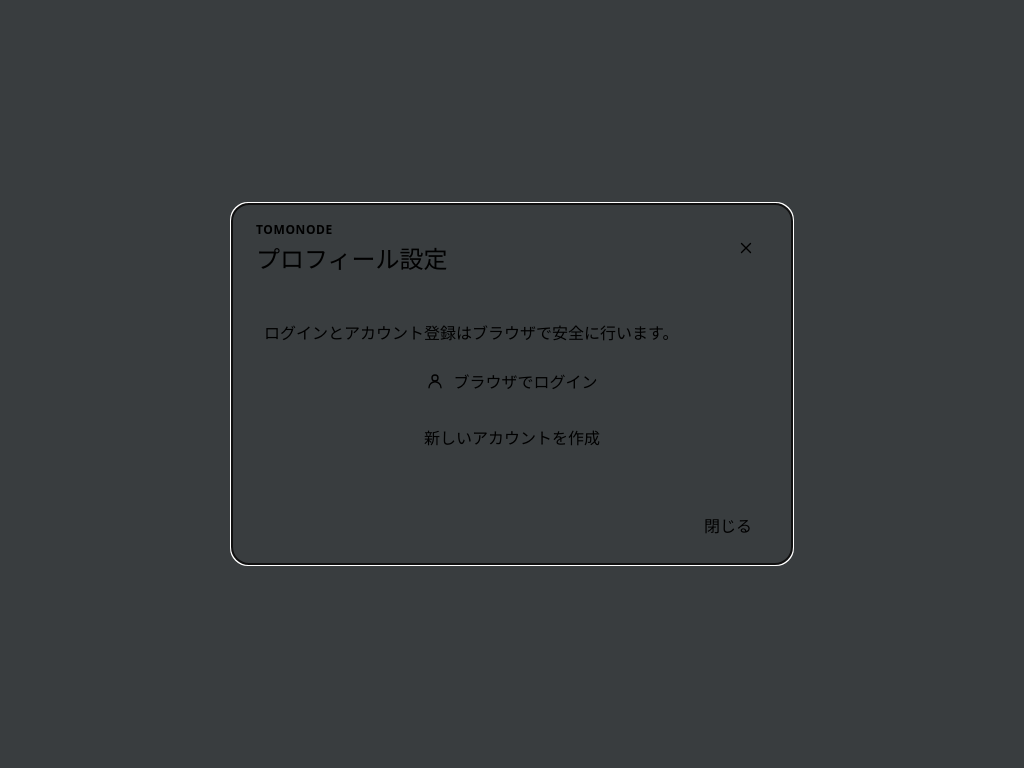
AccountDialog › starts browser login from the signed-out dialog without native credential fields
The width and height of the screenshot is (1024, 768).
Click the button "ブラウザでログイン" at (512,381), box x1=264 y1=360 x2=760 y2=402
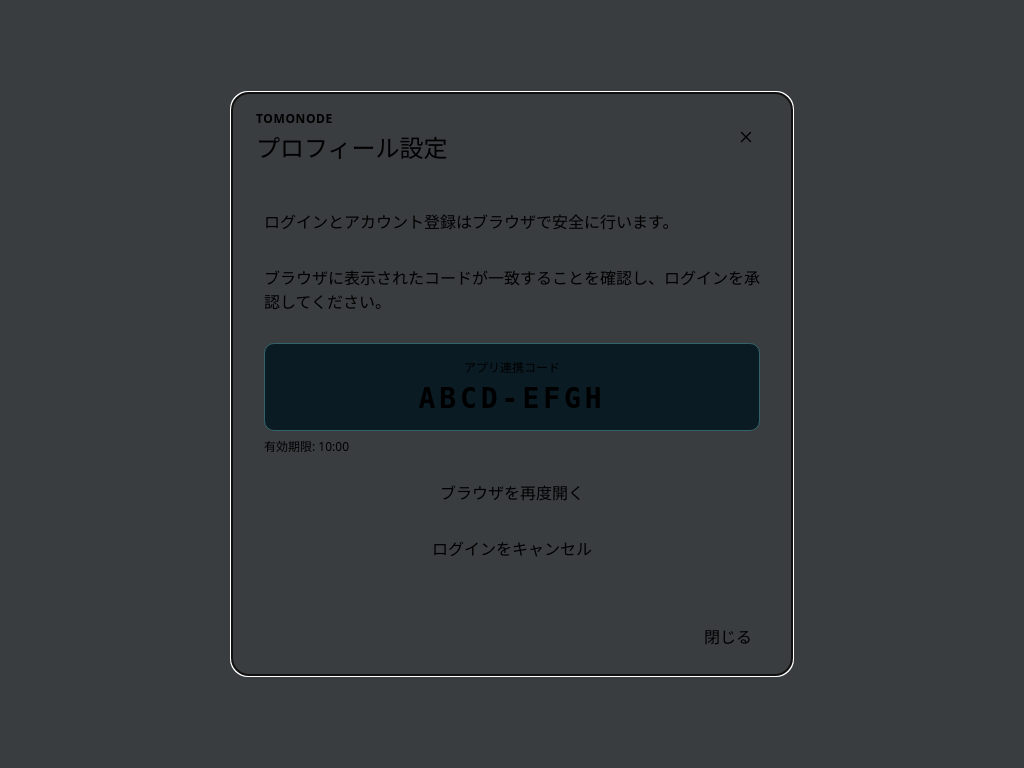
Check: the text named "アプリ連携コード" reads "ABCD-EFGH", box x1=418 y1=382 x2=606 y2=415
Check: the button "ブラウザを再度開く" is shown, box x1=264 y1=471 x2=760 y2=513
Check: the button "ログインをキャンセル" is shown, box x1=264 y1=527 x2=760 y2=569
